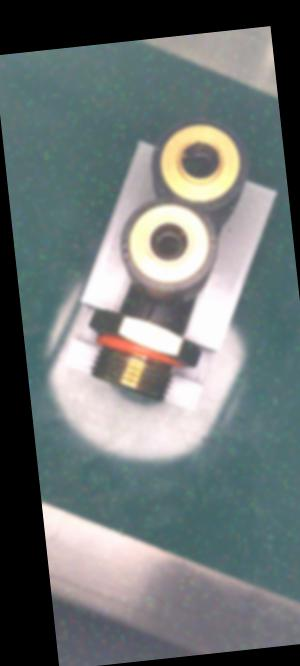craze: (142, 297, 160, 322)
